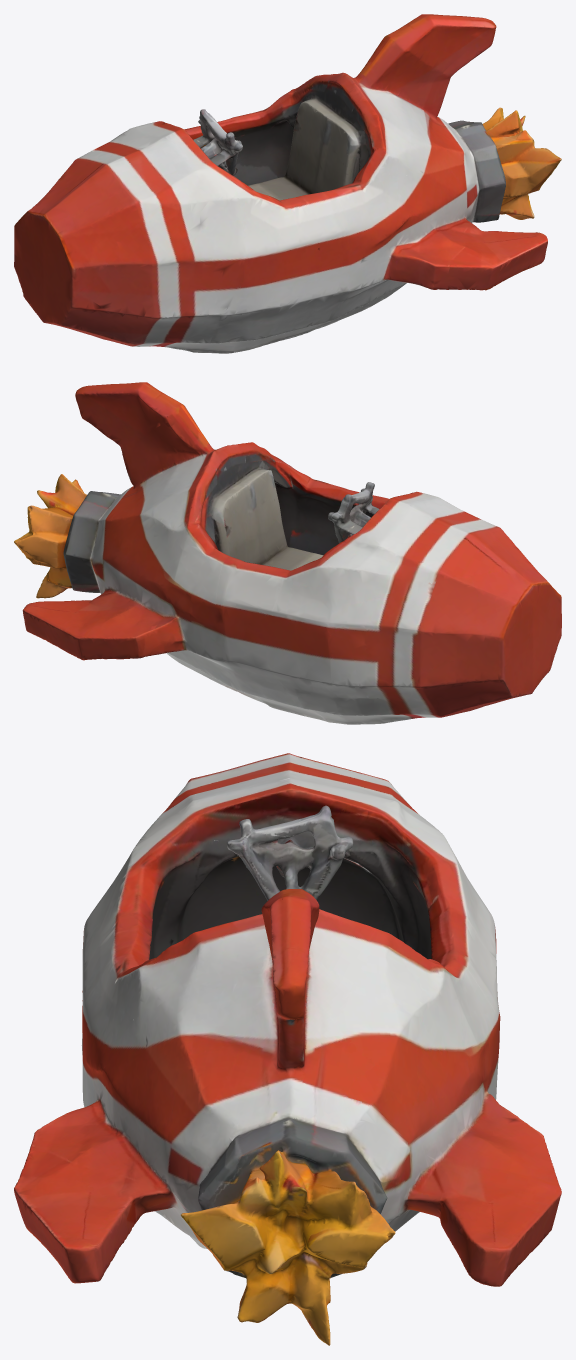
Rendered from Meshy_AI_Red_Stripe_Rocket_0330160432_texture.glb.
3 views of the same model, one above another, from view 1: azimuth 30°, elevation 25°; view 2: azimuth 150°, elevation 25°; view 3: azimuth 270°, elevation 25° (orthographic). The views are drawn at different scales.
Size of the model in its own units: 2 by 1.07 by 1.18.
Materials: 1 (1 with a texture image).
